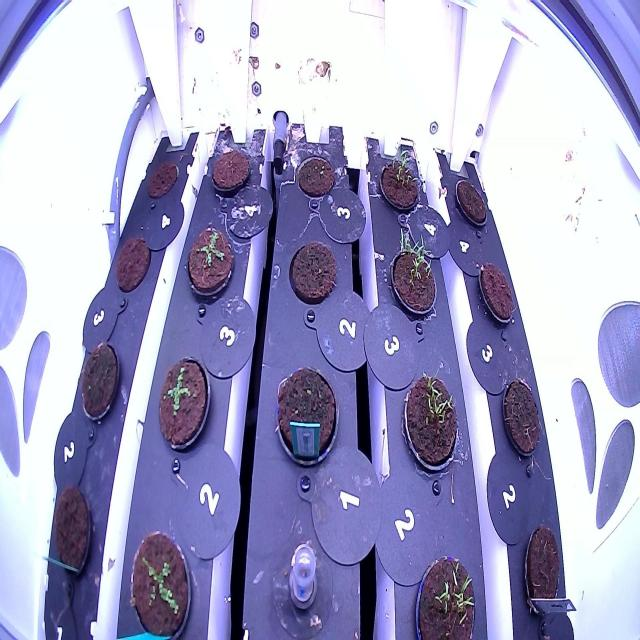germination: (126, 525, 194, 639), (401, 363, 460, 482), (156, 347, 213, 458), (412, 550, 478, 640), (390, 222, 439, 323), (184, 220, 236, 308), (374, 139, 425, 219)
pod: (269, 358, 341, 470), (49, 478, 95, 587), (497, 367, 545, 463), (78, 336, 126, 431), (519, 523, 564, 623), (283, 234, 339, 307), (473, 255, 519, 330), (112, 228, 153, 296), (208, 143, 252, 200), (292, 150, 338, 204), (452, 175, 490, 234), (145, 155, 181, 205)
